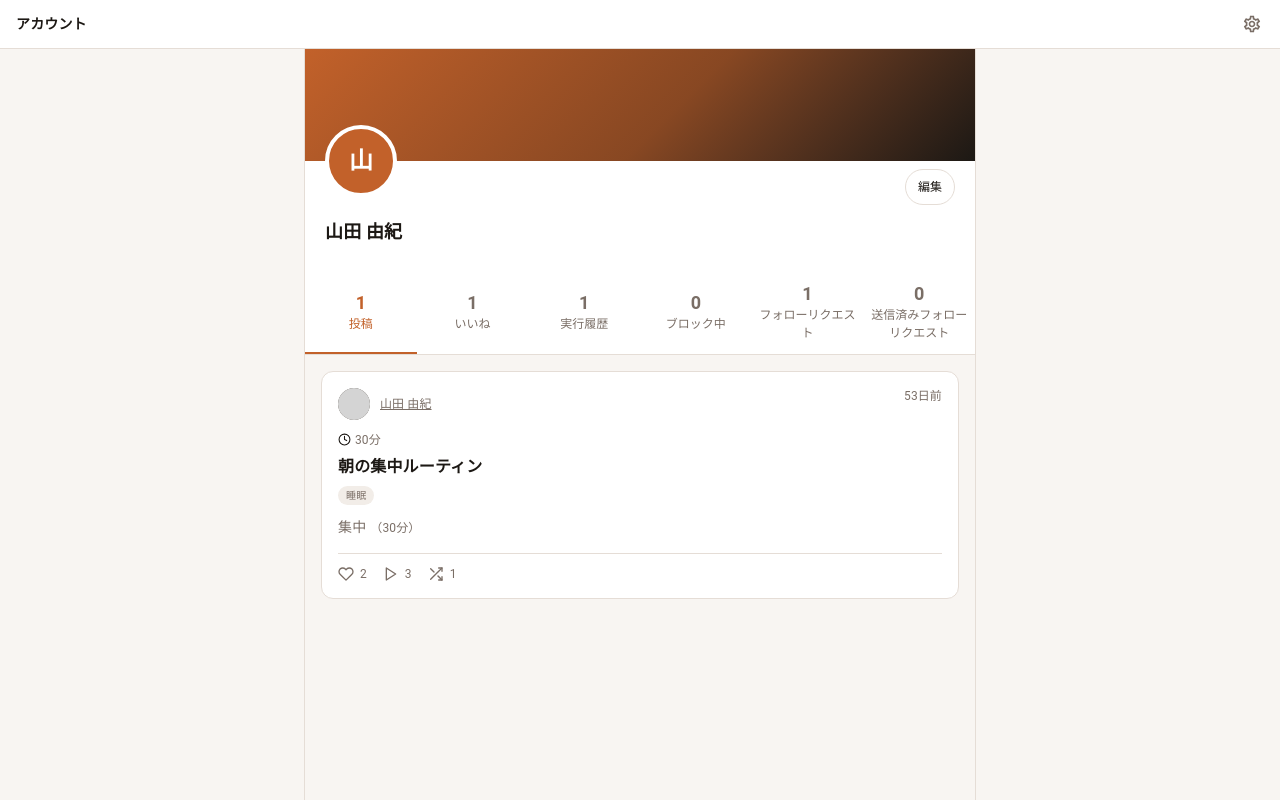
Test: AccountPage › 受信フォローリクエストの却下失敗時は一覧と件数を維持してエラーを表示する
The width and height of the screenshot is (1280, 800).
Click the tab named "1フォローリクエスト" at x=808, y=314, box [752,275,863,354]
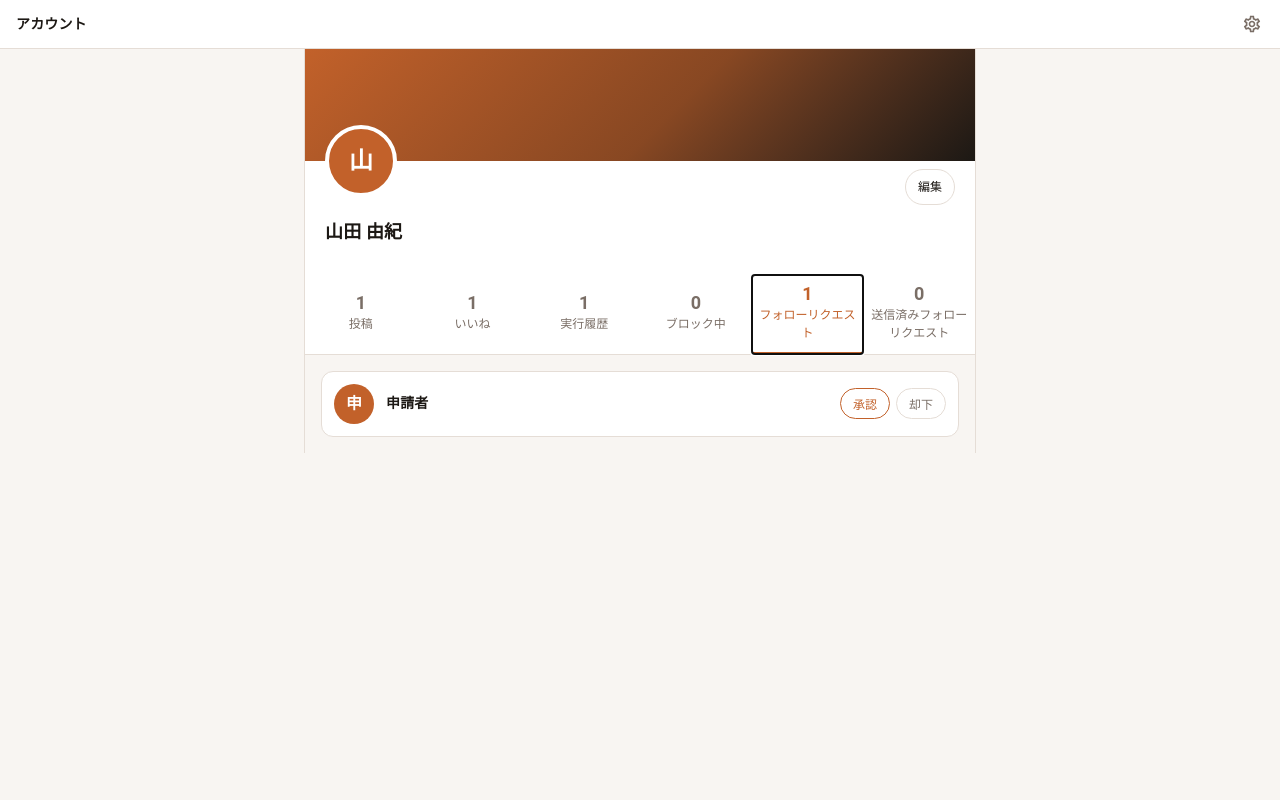
Click the button "却下" at x=921, y=404, box [896,388,946,419]
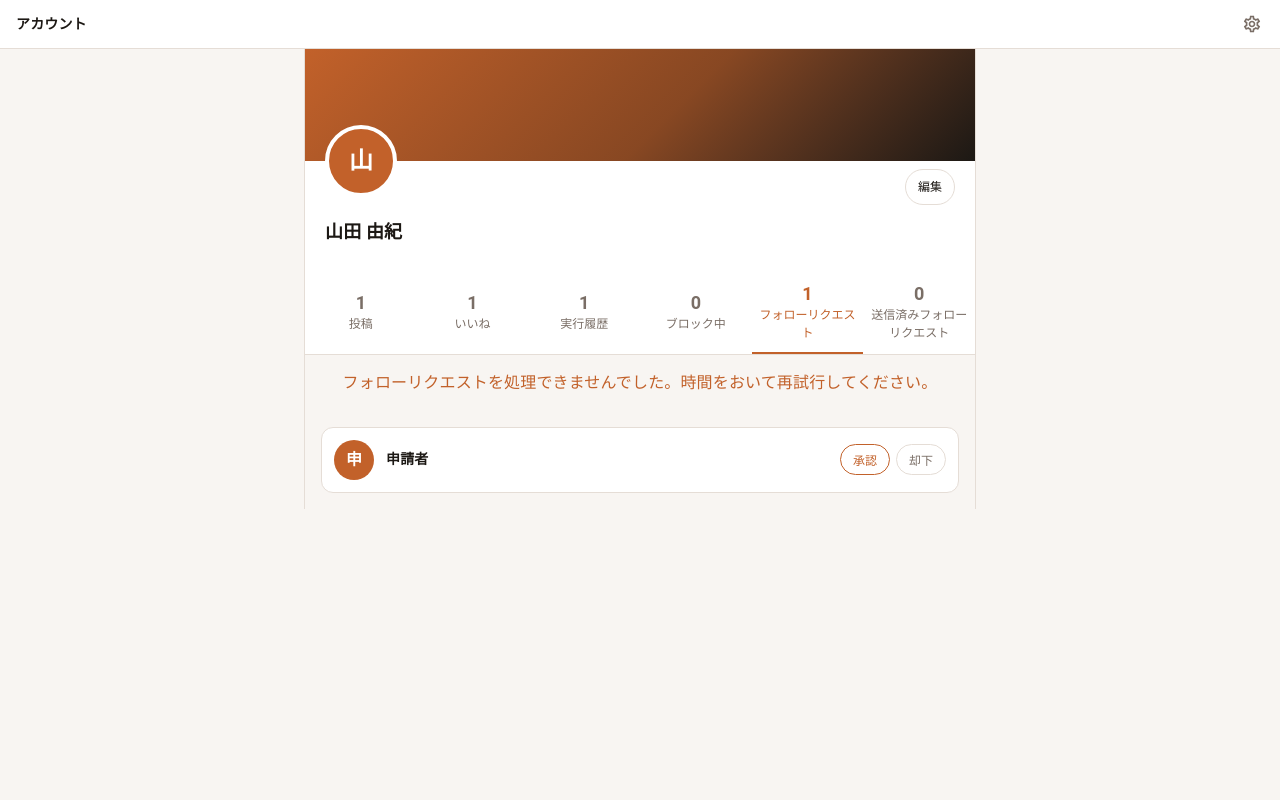
Check: the tab named "1フォローリクエスト" is shown, box [752,275,863,354]
Check: the link "申 申請者" is shown, box [334,440,428,480]
Check: the message reads "フォローリクエストを処理できませんでした。時間をおいて再試行してください。", box [343,373,937,392]
